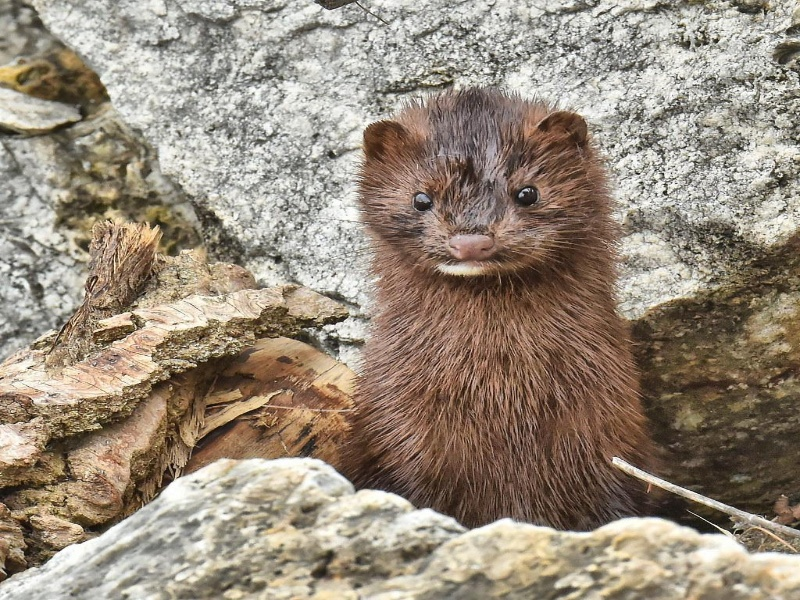minkish: (352, 85, 664, 530)
